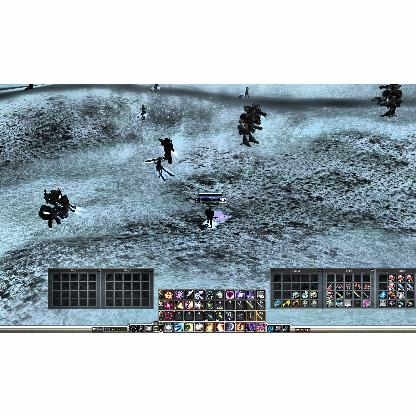caliana: (154, 156, 166, 180), (136, 104, 148, 118), (238, 86, 250, 98), (152, 83, 160, 91)
